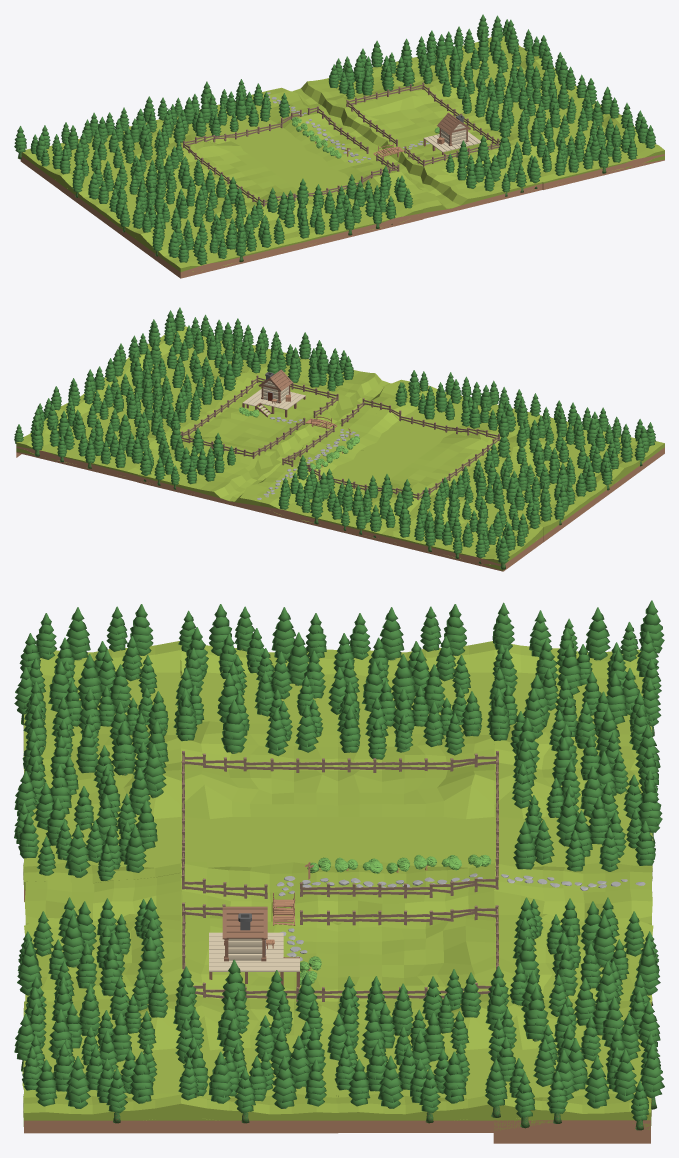
The model's file is map_spring.fbx.
3 renders of one model, top to bottom at view 1: azimuth 30°, elevation 25°; view 2: azimuth 150°, elevation 25°; view 3: azimuth 270°, elevation 25°, orthographic. The views are drawn at different scales.
Parts seen in each view (by area): view 1: Ground.Cover.001, Ground.Cover.014, Ground.Cover.004, Ground.001, Ground.003, Ground.Cover.016, Ground.Cover.002, Ground.011, Ground.Cover.013, Ground.Cover.009, Ground.Cover.008, Ground.Cover.012 (+18 smaller); view 2: Ground.Cover.004, Ground.Cover.001, Ground.002, Ground.Cover.002, Ground.Cover.014, Ground.004, Ground.Cover.012, Ground.Cover.009, Ground.Cover.008, Ground.Cover.016, Ground.Cover.005, Ground.Cover.013 (+18 smaller); view 3: Ground.Cover.004, Ground.002, Ground.Cover.001, Ground.003, Ground.Cover.014, Ground.001, Ground.Cover.002, Ground.Cover.005, Ground.Cover.016, Ground.Cover.008, Ground.Cover.009, Ground.Cover.012 (+22 smaller).
Boxes of the visible parts, x1,y1,x2,y2 form: Ground.Cover.001: (14, 107, 169, 176); Ground.Cover.014: (267, 166, 412, 238); Ground.Cover.004: (401, 14, 548, 84); Ground.001: (303, 90, 448, 150); Ground.003: (182, 116, 342, 181); Ground.Cover.016: (522, 103, 664, 175); Ground.Cover.002: (143, 79, 290, 143); Ground.011: (389, 149, 542, 218); Ground.Cover.013: (152, 195, 284, 271); Ground.Cover.009: (109, 169, 244, 232); Ground.Cover.008: (442, 44, 575, 117); Ground.Cover.012: (485, 74, 619, 141); Ground.Cover.004: (14, 386, 165, 468); Ground.Cover.001: (398, 482, 540, 570); Ground.002: (340, 409, 499, 474); Ground.Cover.002: (274, 455, 413, 537); Ground.Cover.014: (395, 370, 540, 436); Ground.004: (137, 441, 297, 512); Ground.Cover.012: (105, 333, 241, 404); Ground.Cover.009: (484, 423, 619, 496); Ground.Cover.008: (68, 366, 201, 430); Ground.Cover.016: (148, 307, 281, 373); Ground.Cover.005: (442, 459, 575, 529); Ground.Cover.013: (523, 400, 656, 466); Ground.Cover.004: (485, 961, 664, 1143); Ground.002: (181, 762, 339, 883); Ground.Cover.001: (486, 600, 664, 757); Ground.003: (336, 764, 494, 883); Ground.Cover.014: (14, 720, 168, 880); Ground.001: (338, 872, 494, 1001); Ground.Cover.002: (511, 717, 662, 878); Ground.Cover.005: (328, 604, 482, 759); Ground.Cover.016: (14, 969, 168, 1126); Ground.Cover.008: (327, 969, 481, 1123); Ground.Cover.009: (173, 604, 326, 756); Ground.Cover.012: (173, 959, 326, 1123).
Size of the model in its own units: 14930 by 1314 by 8695.
121 materials, 59 textured.
